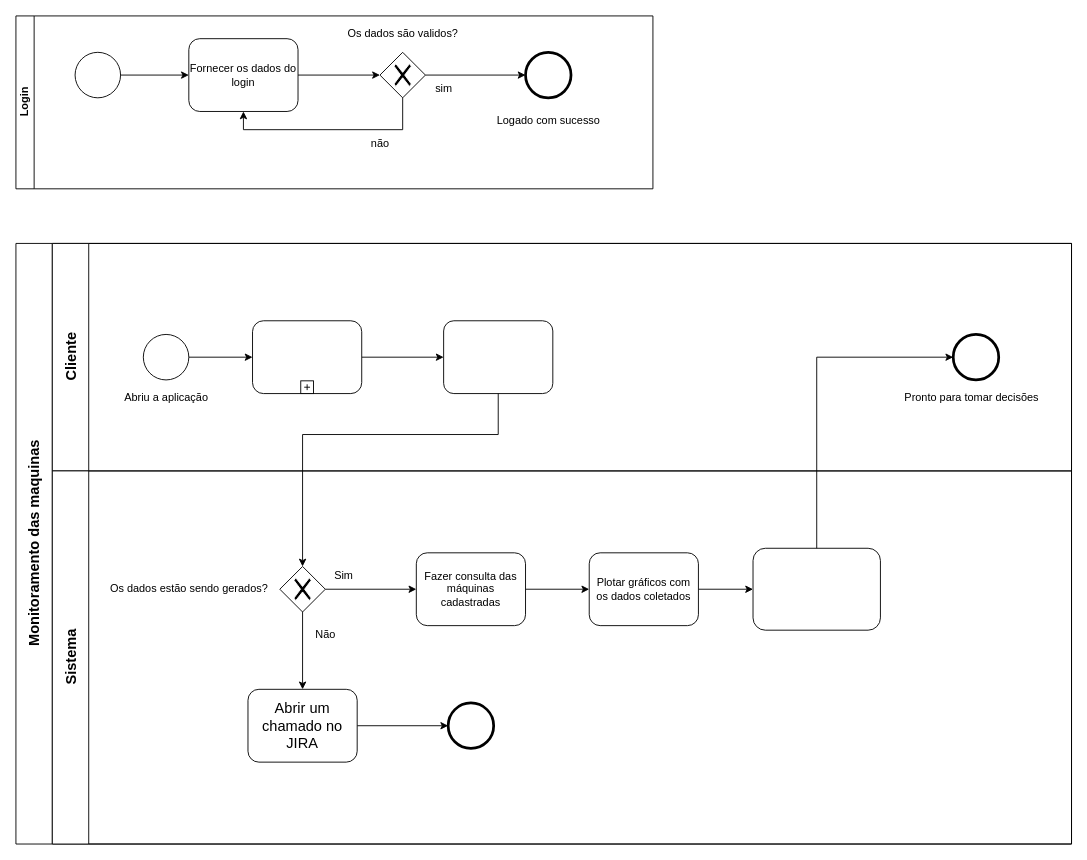
Some shapes in this 1087 by 860 pixel diagram are drawn without their labels. The shapes that lost their labels are listed below. From the top down, each one's centre as x and y in pixels, then its label:
At point (307, 357): "Fazer Login".
At point (498, 357): "Direcionado para a Dashboard".
At point (816, 588): "Mandar as mensagens de alerta de acordo com as métricas".
At point (470, 725): "Aguardar chamado ser finalizado".
